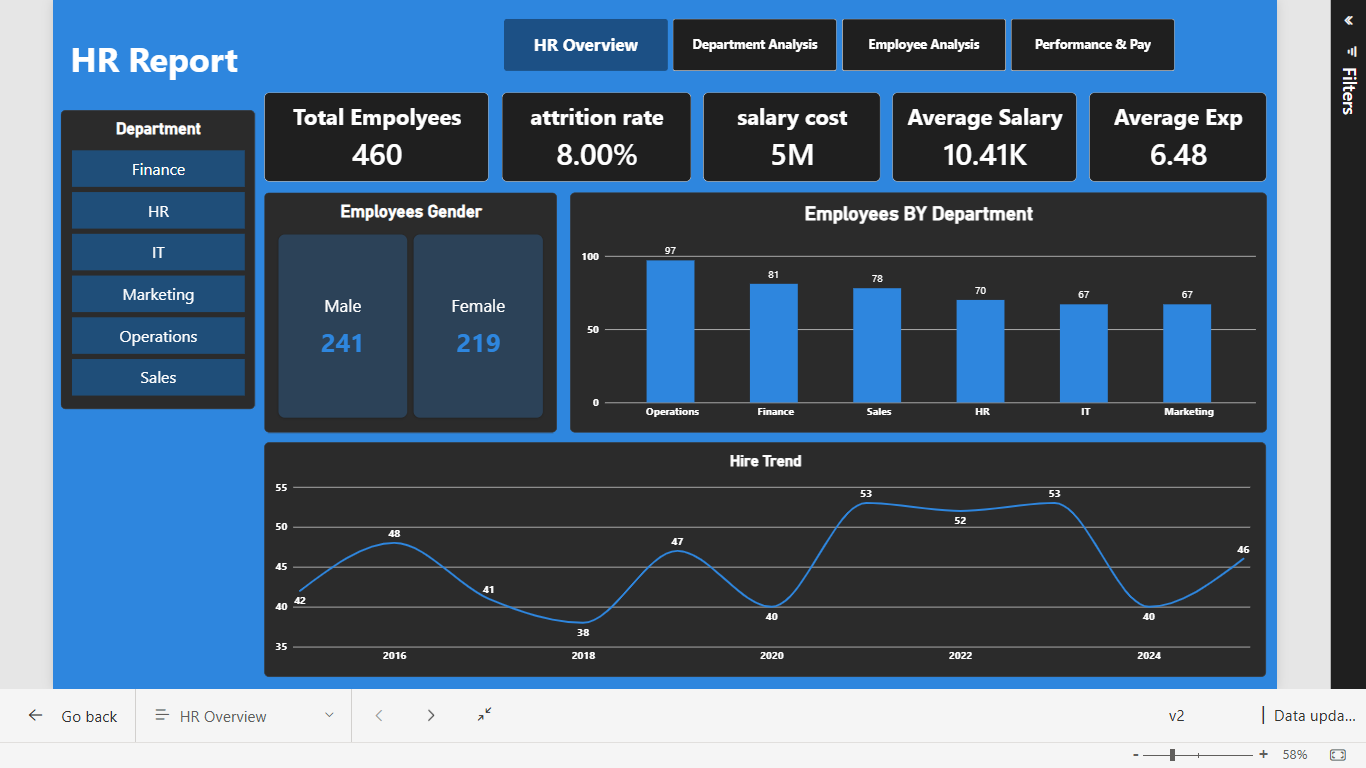

This screenshot's page, from the dashboard's own definition file:
{"tool":"powerbi","page":{"name":"HR Overview","canvas":[1920,1080],"ordinal":0},"visuals":[{"type":"enlightenSlicerB18DC0CE4A1F4BA79CE49FBE40F3965F","fields":{"category":["HR.Department"]},"box":[12.8,172.2,304.9,468.7],"z":0},{"type":"textbox","box":[27.7,55.4,277.2,83.1],"z":1000},{"type":"cardVisual","fields":{"Data":["HR.salary cost"]},"box":[1019.4,144.6,278.5,140.3],"z":4000},{"type":"cardVisual","fields":{"Data":["HR.attrition rate"]},"box":[703.2,144.6,297.6,140.3],"z":5000},{"type":"cardVisual","fields":{"Data":["HR.active employees"]},"box":[331.7,144.6,352.9,140.3],"z":6000},{"type":"simpleScorecardE4A86F3675B84D178C45F7E034E25D6A","title":"Employees Gender","fields":{"metric":["HR.active employees"],"cardDimension":["HR.Gender"]},"box":[331.7,301.9,459.2,376.3],"z":7000},{"type":"columnChart","title":" Employees BY Department","fields":{"Category":["HR.Department"],"Y":["HR.active employees"]},"box":[810,301.9,1092.8,376.3],"z":8000},{"type":"pageNavigator","box":[707.5,30,1055,82.5],"z":9000},{"type":"lineChart","title":"Hire Trend","fields":{"Category":["HR.HireDate.Variation.Date Hierarchy.Year","HR.HireDate.Variation.Date Hierarchy.Quarter","HR.HireDate.Variation.Date Hierarchy.Month","HR.HireDate.Variation.Date Hierarchy.Day"],"Y":["HR.all emp"]},"box":[331.7,693.1,1571.1,367.8],"z":10000},{"type":"cardVisual","fields":{"Data":["HR.avrage exp"]},"box":[1624.3,144.6,278.5,140.3],"z":10001},{"type":"cardVisual","fields":{"Data":["HR.avrage salary"]},"box":[1316.5,144.6,289.1,140.3],"z":10002}]}

Visuals, with their boxes on the page's 1920x1080 design canvas (x1, y1, x2, y2). These are canvas units, not pixel positions in the 1366x768 screenshot, which may show the page scaled, cropped or inside an application window:
enlightenSlicerB18DC0CE4A1F4BA79CE49FBE40F3965F - HR.Department: (13, 172, 318, 641)
textbox: (28, 55, 305, 138)
cardVisual - HR.salary cost: (1019, 145, 1298, 285)
cardVisual - HR.attrition rate: (703, 145, 1001, 285)
cardVisual - HR.active employees: (332, 145, 685, 285)
"Employees Gender" simpleScorecardE4A86F3675B84D178C45F7E034E25D6A: (332, 302, 791, 678)
" Employees BY Department" columnChart: (810, 302, 1903, 678)
pageNavigator: (708, 30, 1762, 112)
"Hire Trend" lineChart: (332, 693, 1903, 1061)
cardVisual - HR.avrage exp: (1624, 145, 1903, 285)
cardVisual - HR.avrage salary: (1316, 145, 1606, 285)
